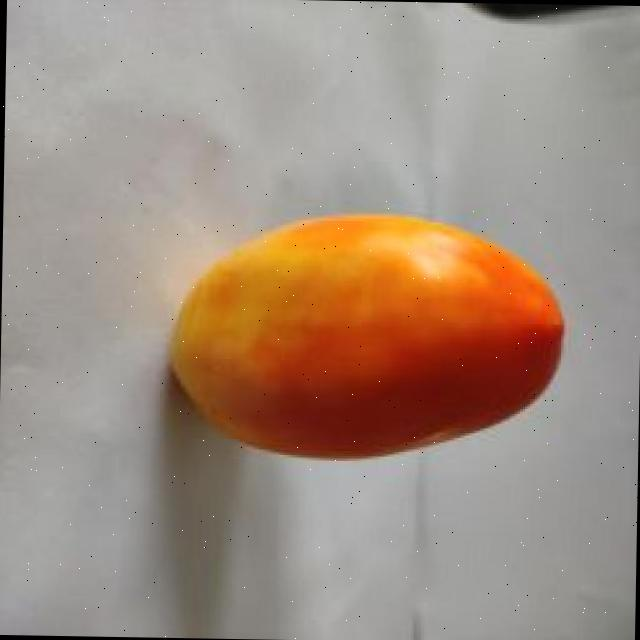tomato: (162, 214, 570, 466)
